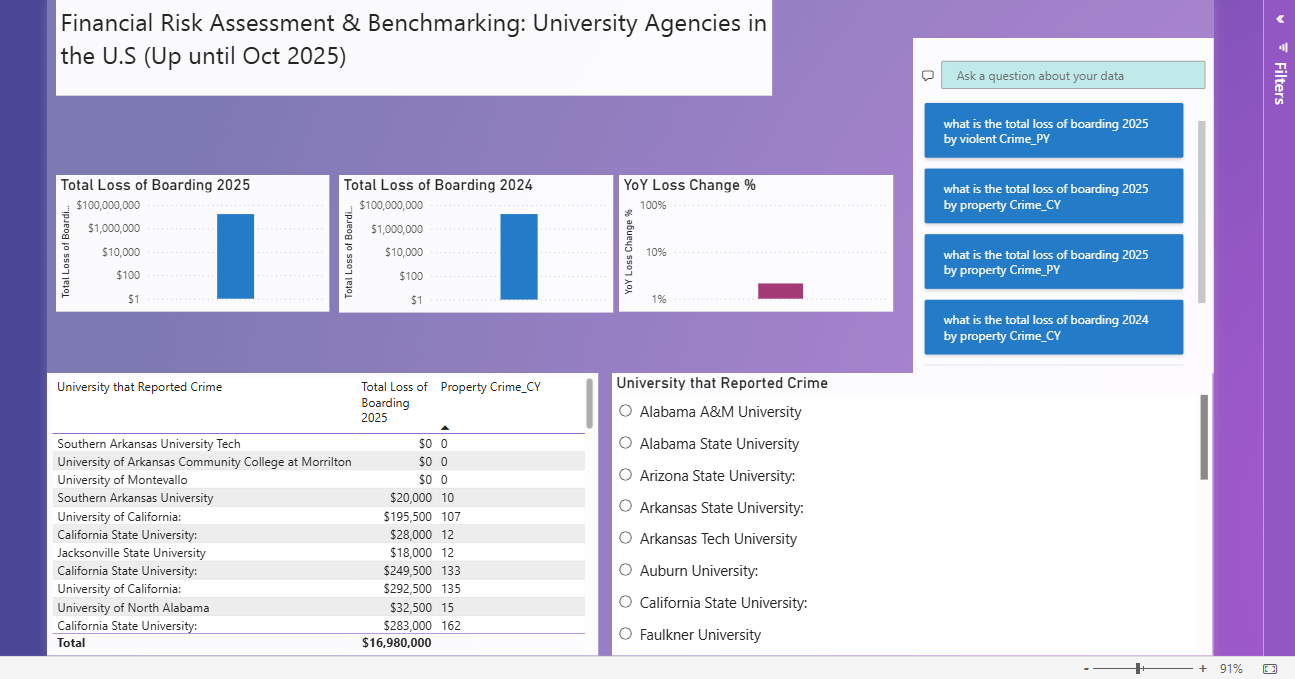

This screenshot's page, from the dashboard's own definition file:
{"tool":"powerbi","page":{"name":"Financial Risk Assessment & Benchmarking","canvas":[1280,720],"ordinal":0},"visuals":[{"type":"textbox","box":[9.7,0,785.9,105],"z":0},{"type":"clusteredColumnChart","fields":{"Y":["Crime_in_the_United_States_by_Volume_and_Percent_Change.TotalLoss CY"]},"box":[9.7,192.6,299.6,149.8],"z":1000},{"type":"clusteredColumnChart","fields":{"Y":["Crime_in_the_United_States_by_Volume_and_Percent_Change.TotalLoss PY"]},"box":[320,191.6,300.5,150.8],"z":2000},{"type":"clusteredColumnChart","fields":{"Y":["Crime_in_the_United_States_by_Volume_and_Percent_Change.YoY Loss Change %"]},"box":[627.4,191.6,300.5,149.8],"z":3000},{"type":"tableEx","fields":{"Values":["Crime_in_the_United_States_by_Volume_and_Percent_Change.AgencyName","Crime_in_the_United_States_by_Volume_and_Percent_Change.TotalLoss CY","Crime_in_the_United_States_by_Volume_and_Percent_Change.Property Crime_CY"]},"box":[0,409.5,605,310.3],"z":4000},{"type":"listSlicer","fields":{"Values":["Crime_in_the_United_States_by_Volume_and_Percent_Change.AgencyName"]},"box":[620.5,409.5,659.5,310.3],"z":5000},{"type":"qnaVisual","box":[950.3,41.8,329.7,367.7],"z":6000}]}

Visuals, with their boxes in screenshot pixels (x1, y1, x2, y2):
textbox: bbox=(69, 0, 773, 94)
clusteredColumnChart - Crime_in_the_United_States_by_Volume_and_Percent_Change.TotalLoss CY: bbox=(69, 172, 338, 307)
clusteredColumnChart - Crime_in_the_United_States_by_Volume_and_Percent_Change.TotalLoss PY: bbox=(347, 172, 616, 307)
clusteredColumnChart - Crime_in_the_United_States_by_Volume_and_Percent_Change.YoY Loss Change %: bbox=(623, 172, 892, 306)
tableEx - Crime_in_the_United_States_by_Volume_and_Percent_Change.AgencyName x Crime_in_the_United_States_by_Volume_and_Percent_Change.TotalLoss CY: bbox=(61, 367, 602, 645)
listSlicer - Crime_in_the_United_States_by_Volume_and_Percent_Change.AgencyName: bbox=(616, 367, 1207, 645)
qnaVisual: bbox=(912, 37, 1207, 367)
